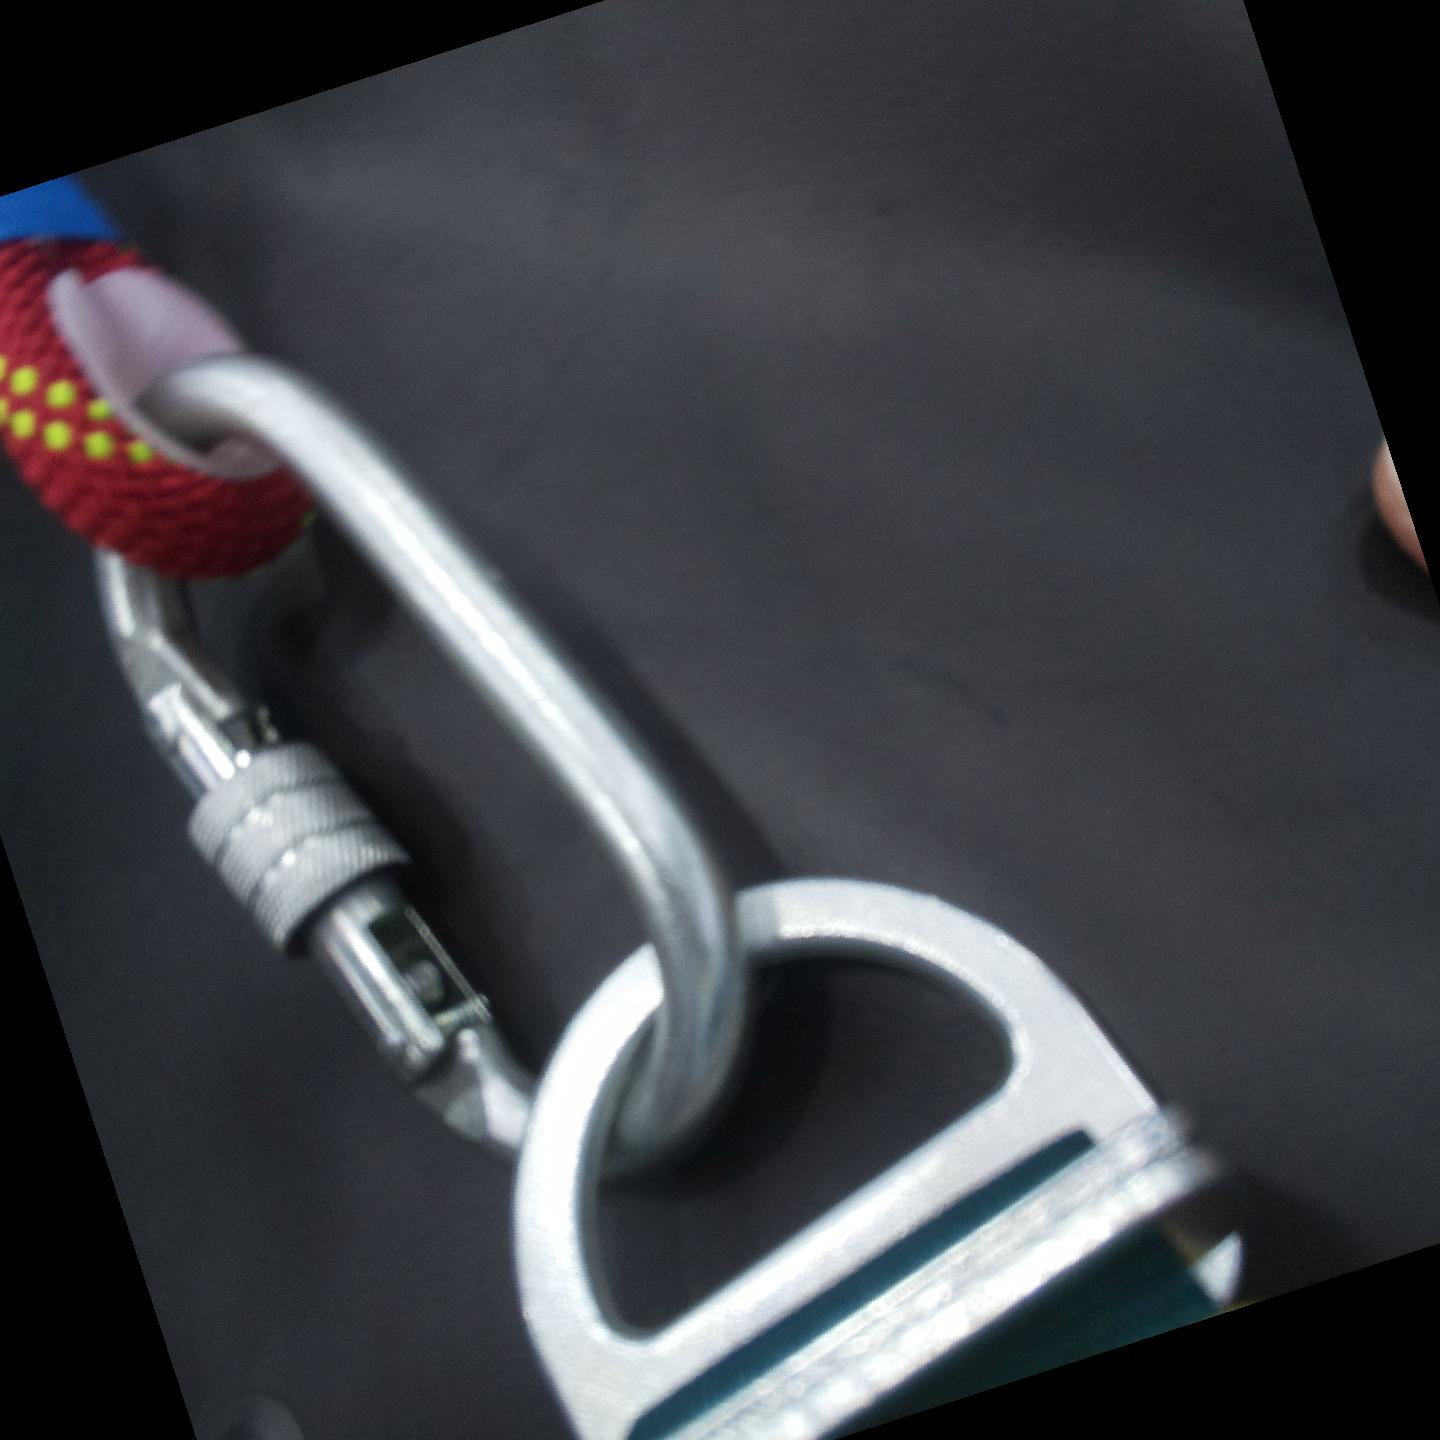SUCCESS: (228, 746, 1109, 1348)
